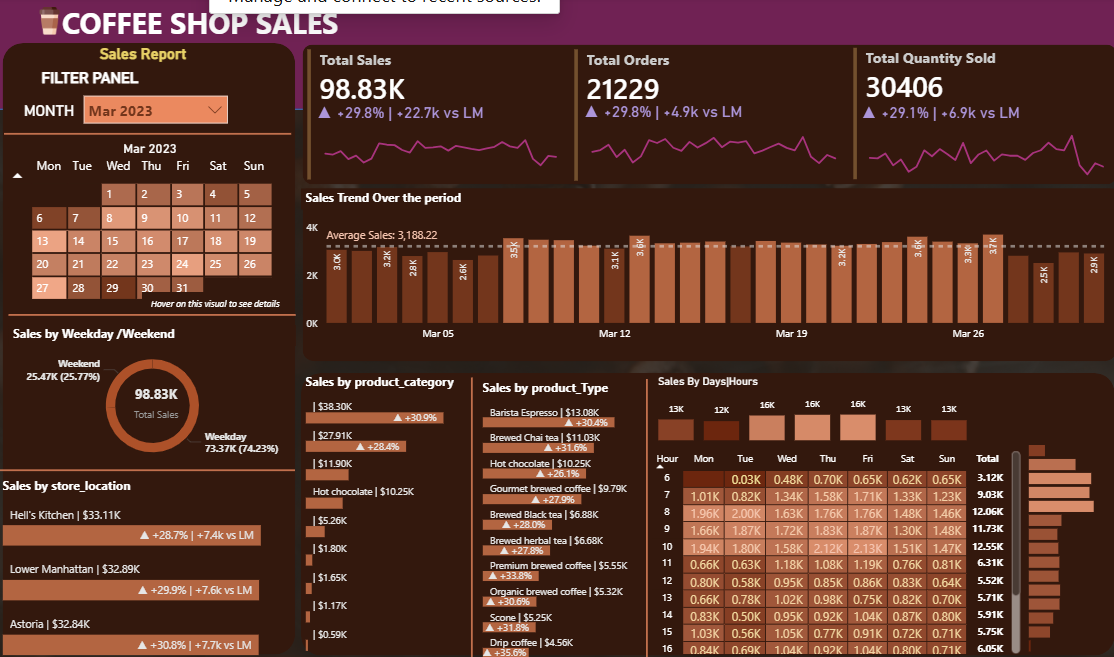

What the dashboard file says about the page in this screenshot:
{"tool":"powerbi","page":{"name":"Page 1","canvas":[1249,750],"ordinal":0},"visuals":[{"type":"shape","box":[0,0,1400,124],"z":0},{"type":"shape","box":[11.7,49.5,325.2,679.6],"z":1000},{"type":"shape","box":[344.5,50.9,904.5,155.5],"z":2000},{"type":"textbox","box":[0,0,462.5,62.5],"z":3000},{"type":"cardVisual","fields":{"Data":["Transactions.Total Sales"]},"box":[344.5,50.9,296.4,155.5],"z":4000},{"type":"slicer","fields":{"Values":["Date Table.Month Year"]},"box":[96.2,103.8,170,36.2],"z":5000},{"type":"lineChart","fields":{"Y":["Transactions.Total Sales"],"Category":["Date Table.Date.Variation.Date Hierarchy.Year","Date Table.Date.Variation.Date Hierarchy.Quarter","Date Table.Date.Variation.Date Hierarchy.Month","Date Table.Date.Variation.Date Hierarchy.Day"]},"box":[354.5,116.4,286.4,86.4],"z":6000},{"type":"cardVisual","fields":{"Data":["Transactions.Total Orders"]},"box":[640.9,50.9,300.9,156.4],"z":7000},{"type":"cardVisual","fields":{"Data":["Transactions.Total Quantity Sold"]},"box":[951.8,50,291.8,156.4],"z":8000},{"type":"lineChart","fields":{"Category":["Date Table.Date.Variation.Date Hierarchy.Year","Date Table.Date.Variation.Date Hierarchy.Quarter","Date Table.Date.Variation.Date Hierarchy.Month","Date Table.Date.Variation.Date Hierarchy.Day"],"Y":["Transactions.Total Orders"]},"box":[651.8,115.5,300,87.3],"z":9000},{"type":"lineChart","fields":{"Category":["Date Table.Date.Variation.Date Hierarchy.Year","Date Table.Date.Variation.Date Hierarchy.Quarter","Date Table.Date.Variation.Date Hierarchy.Month","Date Table.Date.Variation.Date Hierarchy.Day"],"Y":["Transactions.Total Quantity Sold"]},"box":[960,116.4,289.1,86.4],"z":10000},{"type":"pivotTable","fields":{"Rows":["Date Table.Week Number"],"Columns":["Date Table.Day Name"],"Values":["Min(Date Table.Day number)"]},"box":[12.5,167.5,308.8,173.8],"z":11000},{"type":"card","fields":{"Values":["Min(Date Table.Month Year)"]},"box":[132.7,150.9,83.6,21.8],"z":12000},{"type":"card","fields":{"Values":["Transactions.FOOT MESSAGE"]},"box":[167.3,327.3,161.8,24.5],"z":13000},{"type":"shape","box":[18.2,341.8,319.1,20.9],"z":14000},{"type":"shape","box":[13.6,140,319.1,21.8],"z":15000},{"type":"donutChart","title":"Sales by Weekday /Weekend","fields":{"Category":["Date Table.Weekday /Weekend"],"Y":["Transactions.Total Sales"]},"box":[18.2,362.7,319.1,160.9],"z":16000},{"type":"card","fields":{"Values":["Transactions.Total Sales"]},"box":[148.8,423.8,67.5,50],"z":17000},{"type":"shape","box":[7.3,519.1,330,12.7],"z":18000},{"type":"clusteredBarChart","title":"Sales by store_location","fields":{"Category":["Transactions.store_location"],"Y":["Transactions.Placeholder","Transactions.Total Sales"]},"box":[7.3,531.8,323.6,206.4],"z":19000},{"type":"shape","box":[344,416,904,314],"z":20000},{"type":"shape","box":[344.3,224.3,904.3,178.6],"z":21000},{"type":"columnChart","title":"Sales Trend Over the period","fields":{"Category":["Transactions.transaction_date"],"Y":["Transactions.Total Sales"]},"box":[344,212,904,178],"z":22000},{"type":"clusteredBarChart","title":"Sales by product_category","fields":{"Y":["Transactions.Placeholder","Transactions.Total Sales"],"Category":["Transactions.product_category"]},"box":[344,416,188,314],"z":23000},{"type":"shape","box":[526,421,13,312],"z":24000},{"type":"clusteredBarChart","title":"Sales by product_Type","fields":{"Y":["Transactions.Placeholder","Transactions.Total Sales"],"Category":["Transactions.product_type"]},"box":[539,423,183,314],"z":25000},{"type":"shape","box":[722,424,12,314],"z":26000},{"type":"pivotTable","fields":{"Rows":["Transactions.Hour"],"Columns":["Date Table.Day Name"],"Values":["Transactions.Total Sales"]},"box":[727.5,497.5,418.8,235],"z":27000},{"type":"barChart","fields":{"Y":["Transactions.Total Sales"],"Category":["Transactions.Hour"]},"box":[1146.2,482.5,96.2,247.5],"z":28000},{"type":"columnChart","title":"Sales By Days|Hours","fields":{"Y":["Transactions.Total Sales"],"Category":["Date Table.Day Name"]},"box":[735,418.8,353.8,78.8],"z":29000},{"type":"textbox","title":"MONTH","box":[13.8,115,100,25],"z":30000},{"type":"textbox","title":"FILTER PANEL","box":[42.5,78.8,131.2,25],"z":31000},{"type":"textbox","title":"Sales Report","box":[51.2,51.2,232.5,23.8],"z":32000},{"type":"image","box":[42.5,0,41.2,50],"z":33000}]}

Visuals, with their boxes on the page's 1249x750 design canvas (x1, y1, x2, y2). These are canvas units, not pixel positions in the 1114x657 screenshot, which may show the page scaled, cropped or inside an application window:
shape: box(0, 0, 1400, 124)
shape: box(12, 50, 337, 729)
shape: box(344, 51, 1249, 206)
textbox: box(0, 0, 462, 62)
cardVisual - Transactions.Total Sales: box(344, 51, 641, 206)
slicer - Date Table.Month Year: box(96, 104, 266, 140)
lineChart - Transactions.Total Sales x Date Table.Date.Variation.Date Hierarchy.Year: box(354, 116, 641, 203)
cardVisual - Transactions.Total Orders: box(641, 51, 942, 207)
cardVisual - Transactions.Total Quantity Sold: box(952, 50, 1244, 206)
lineChart - Date Table.Date.Variation.Date Hierarchy.Year x Date Table.Date.Variation.Date Hierarchy.Quarter: box(652, 116, 952, 203)
lineChart - Date Table.Date.Variation.Date Hierarchy.Year x Date Table.Date.Variation.Date Hierarchy.Quarter: box(960, 116, 1249, 203)
pivotTable - Date Table.Week Number x Date Table.Day Name: box(12, 168, 321, 341)
card - Min(Date Table.Month Year): box(133, 151, 216, 173)
card - Transactions.FOOT MESSAGE: box(167, 327, 329, 352)
shape: box(18, 342, 337, 363)
shape: box(14, 140, 333, 162)
"Sales by Weekday /Weekend" donutChart: box(18, 363, 337, 524)
card - Transactions.Total Sales: box(149, 424, 216, 474)
shape: box(7, 519, 337, 532)
"Sales by store_location" clusteredBarChart: box(7, 532, 331, 738)
shape: box(344, 416, 1248, 730)
shape: box(344, 224, 1249, 403)
"Sales Trend Over the period" columnChart: box(344, 212, 1248, 390)
"Sales by product_category" clusteredBarChart: box(344, 416, 532, 730)
shape: box(526, 421, 539, 733)
"Sales by product_Type" clusteredBarChart: box(539, 423, 722, 737)
shape: box(722, 424, 734, 738)
pivotTable - Transactions.Hour x Date Table.Day Name: box(728, 498, 1146, 732)
barChart - Transactions.Total Sales x Transactions.Hour: box(1146, 482, 1242, 730)
"Sales By Days|Hours" columnChart: box(735, 419, 1089, 498)
"MONTH" textbox: box(14, 115, 114, 140)
"FILTER PANEL" textbox: box(42, 79, 174, 104)
"Sales Report" textbox: box(51, 51, 284, 75)
image: box(42, 0, 84, 50)
